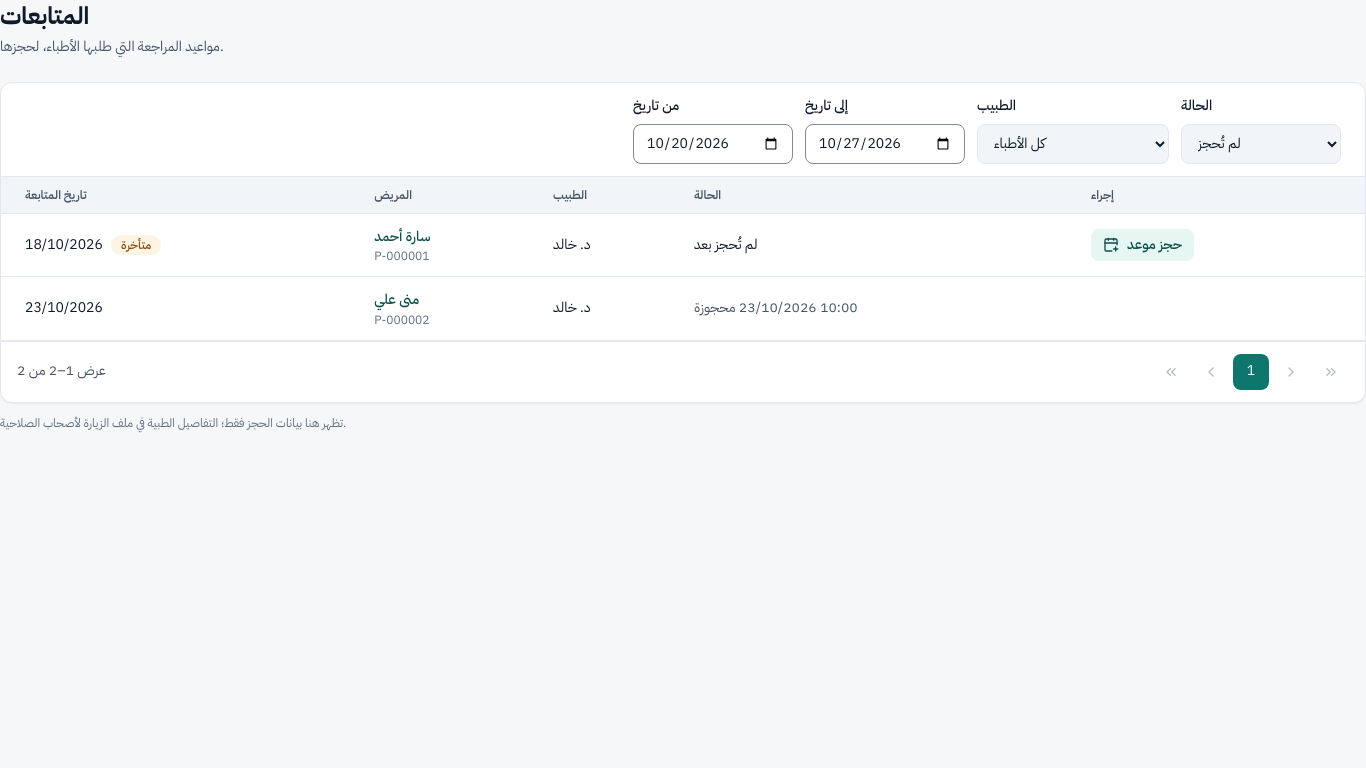
it: Follow-ups page › opens the booking dialog prefilled with the patient and the doctor
The image size is (1366, 768).
Click the button with aria-label "حجز موعد متابعة لـ سارة أحمد" at (1142, 245), box [1091,229,1194,261]
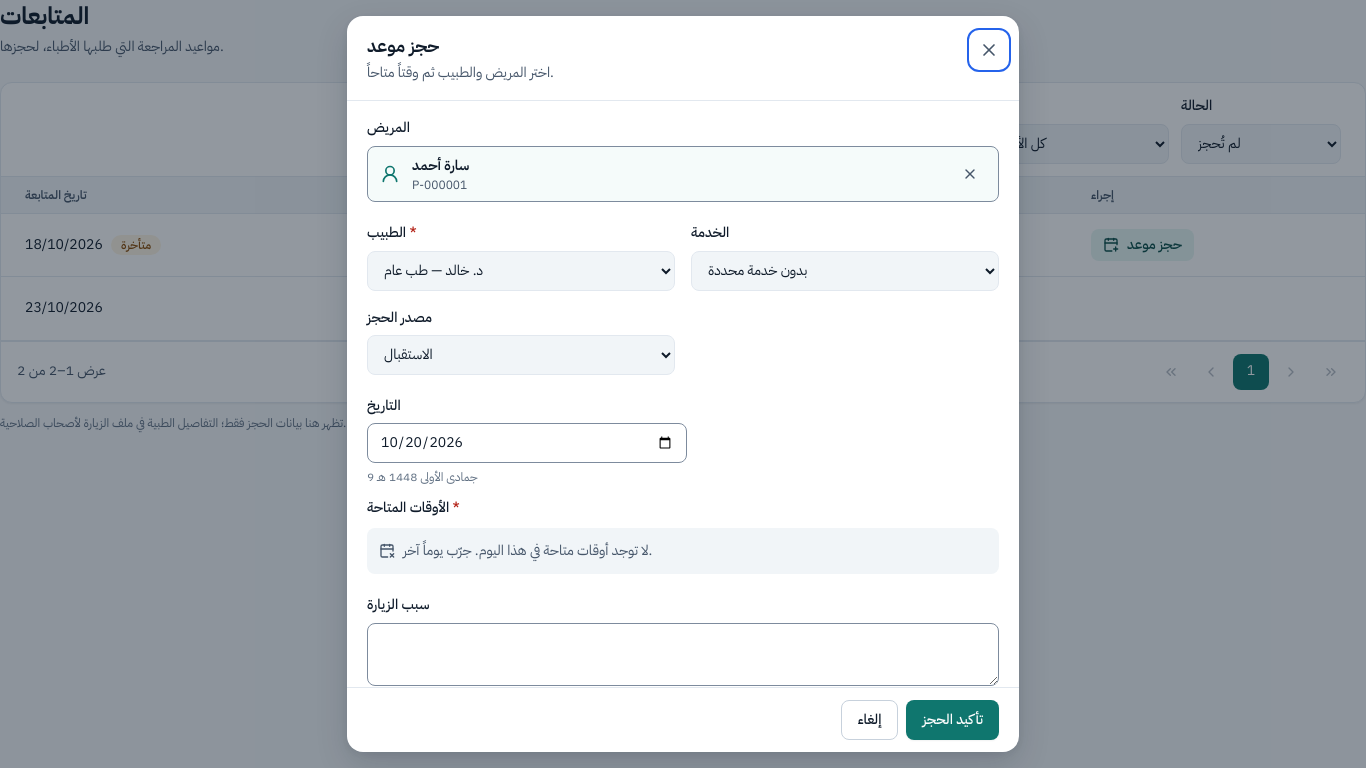
Result: the text "سارة أحمد" is shown at [412,155,469,176]
Result: the dropdown labelled "الطبيب *" shows "د. خالد — طب عام" at [367,251,675,291]
